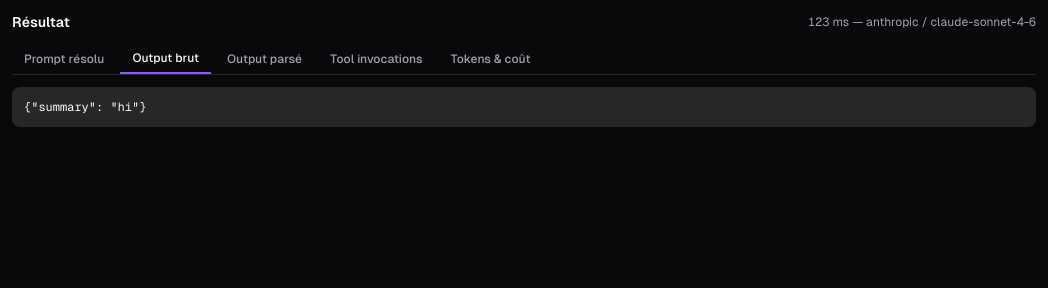
Test: OutputInspector › falls back to raw JSON when a comment has an empty location or message (P-06)
Click the tab with test id "playground-tab-parsed" at (264, 59), box [215,44,314,74]
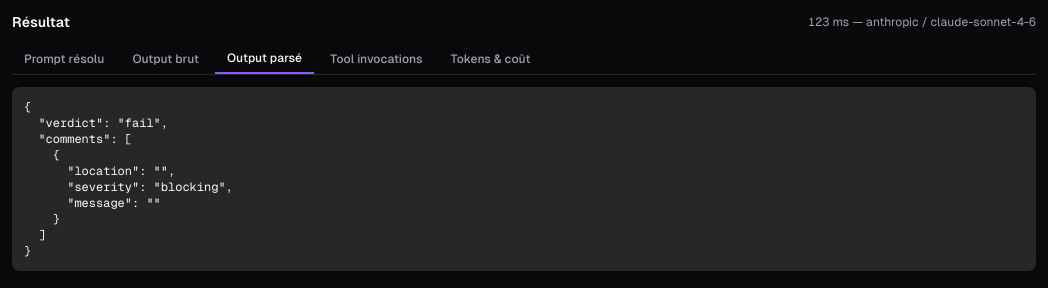
Check: the element with test id "playground-tab-parsed-content" shows "\"verdict\"", box [24,99,233,259]
